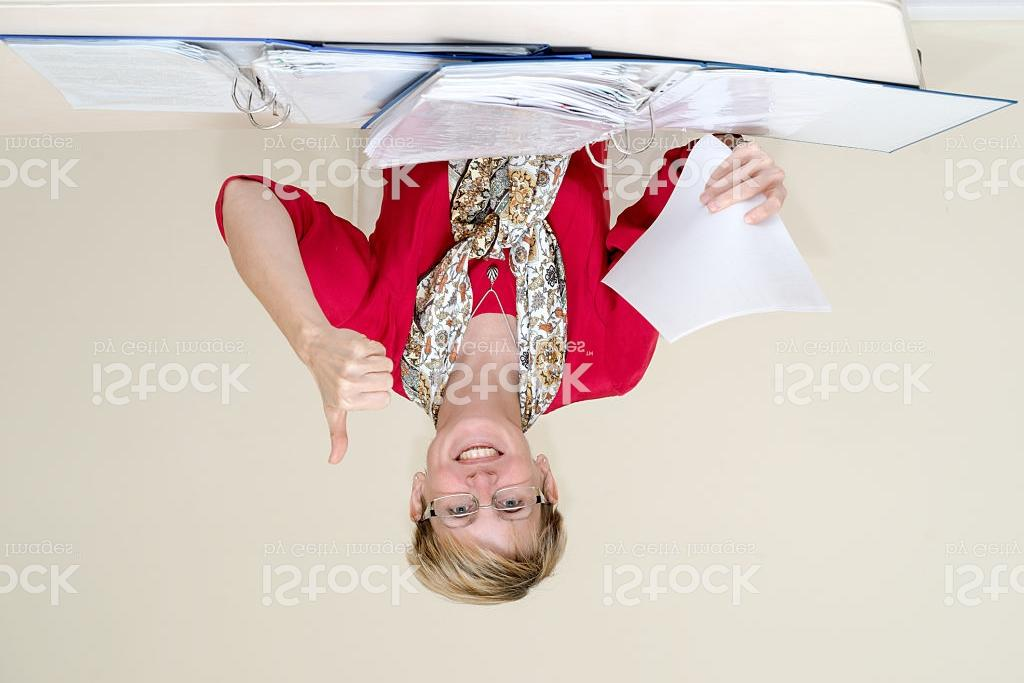thumbsdown: (317, 328, 396, 466)
